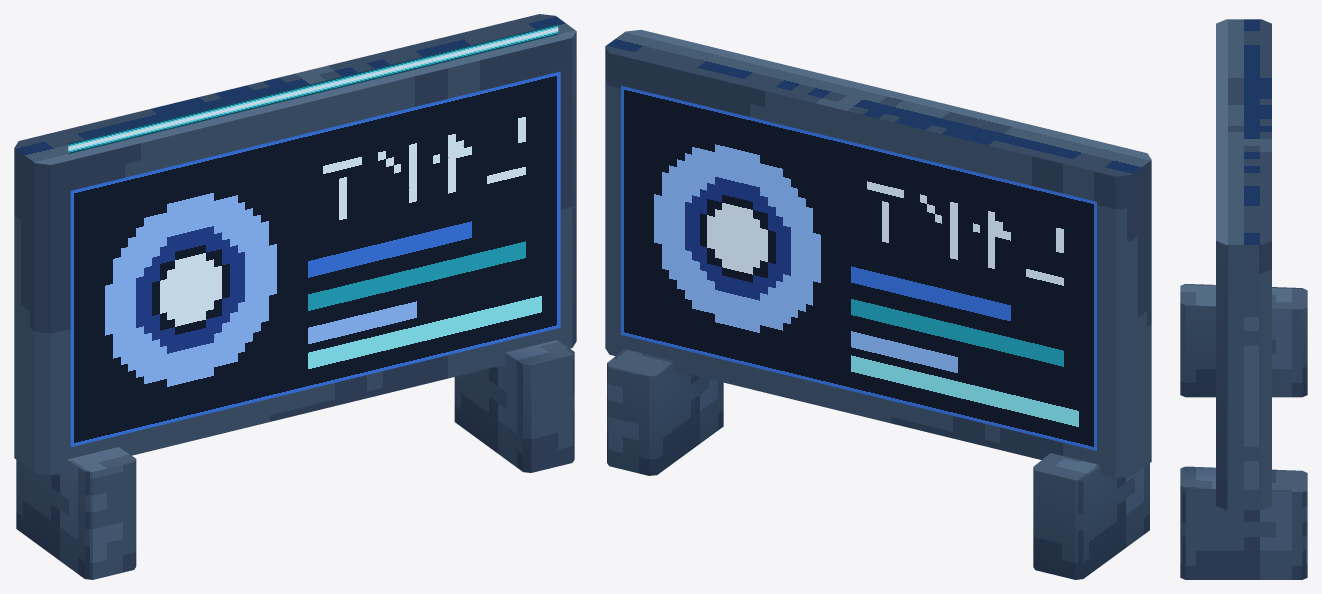
The model's file is cysign.adpanel.glb.
3 views of the same model, side by side, from view 1: azimuth 30°, elevation 25°; view 2: azimuth 150°, elevation 25°; view 3: azimuth 270°, elevation 25° (orthographic). The views are drawn at different scales.
Visible parts, largest first — view 1: kit_card_faces, kit_frame; view 2: kit_card_faces, kit_frame; view 3: kit_frame.
Part boxes in pixels (box(x1,y1,x2,y2)): kit_card_faces: box(68, 24, 560, 446); kit_frame: box(14, 14, 576, 579); kit_card_faces: box(621, 85, 1096, 450); kit_frame: box(605, 29, 1151, 579); kit_frame: box(1180, 19, 1307, 579).
Bounding box in the file's own units: 2.1 × 1.57 × 0.5.
Materials: 4 (4 with a texture image).
